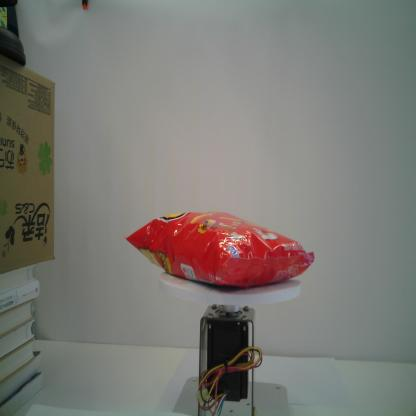Puffed Food: (123, 209, 316, 290)
